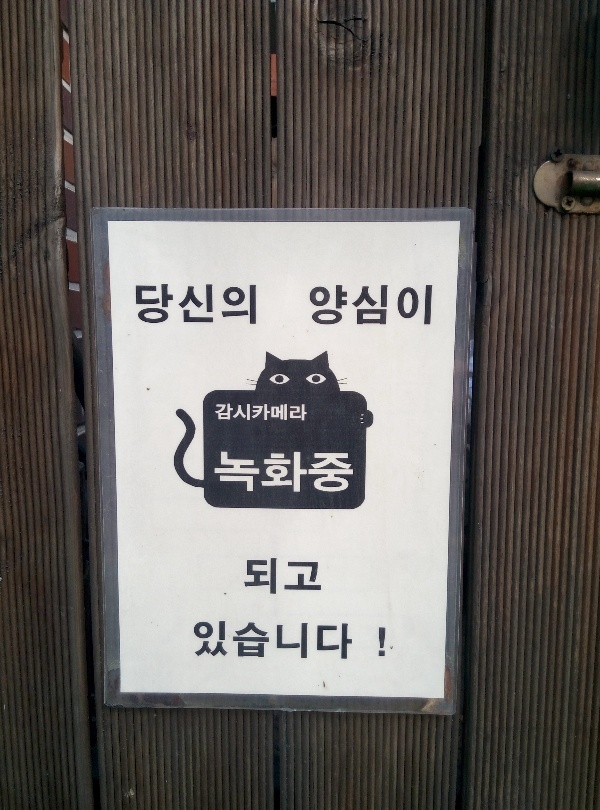text: (225, 449, 240, 498), (241, 449, 256, 498), (257, 449, 272, 498), (273, 449, 288, 498), (289, 449, 304, 498), (305, 449, 320, 498), (321, 449, 336, 498), (337, 449, 352, 498), (241, 283, 257, 325), (417, 284, 433, 326), (209, 619, 224, 661), (225, 619, 240, 661), (241, 619, 256, 661), (257, 619, 272, 661), (273, 619, 288, 661), (289, 619, 304, 661), (305, 619, 320, 661), (321, 619, 336, 661), (337, 619, 352, 661), (353, 619, 368, 661), (369, 619, 384, 661), (145, 283, 160, 325), (161, 283, 176, 325), (177, 283, 192, 325), (193, 283, 208, 325), (209, 283, 224, 325), (225, 283, 240, 325), (321, 284, 336, 326), (337, 284, 352, 326), (353, 284, 368, 326), (369, 284, 384, 326), (385, 284, 400, 326), (401, 284, 416, 326), (257, 557, 272, 597), (273, 557, 288, 597), (289, 557, 304, 597), (305, 557, 320, 597), (194, 619, 208, 661), (244, 557, 256, 597), (215, 449, 224, 498), (310, 284, 320, 326), (136, 283, 144, 325), (225, 402, 240, 423), (241, 402, 256, 423), (257, 402, 272, 423), (273, 402, 288, 423), (289, 402, 304, 423), (215, 402, 224, 423), (353, 449, 355, 498), (385, 619, 387, 661), (305, 402, 307, 423), (321, 557, 322, 597)
